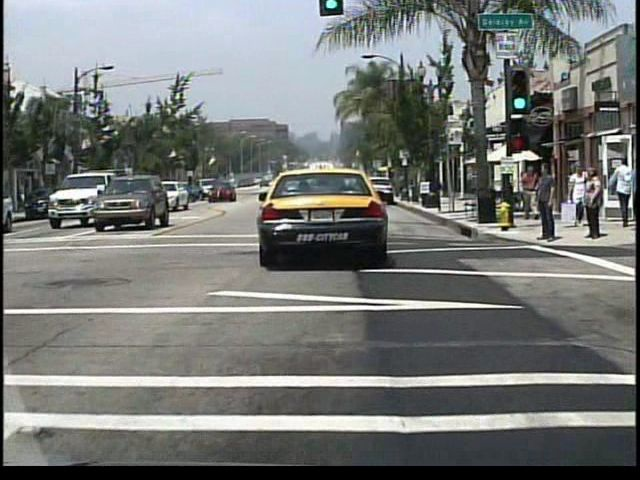person: (537, 161, 558, 243), (584, 168, 605, 242), (566, 162, 586, 227), (521, 166, 540, 220)
